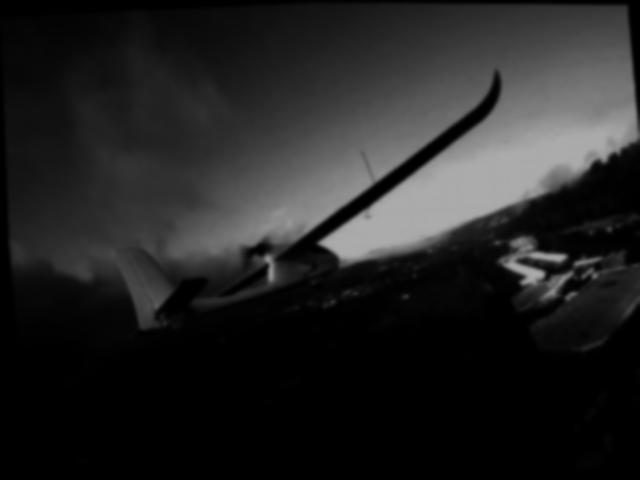hedef: (90, 47, 544, 350)
